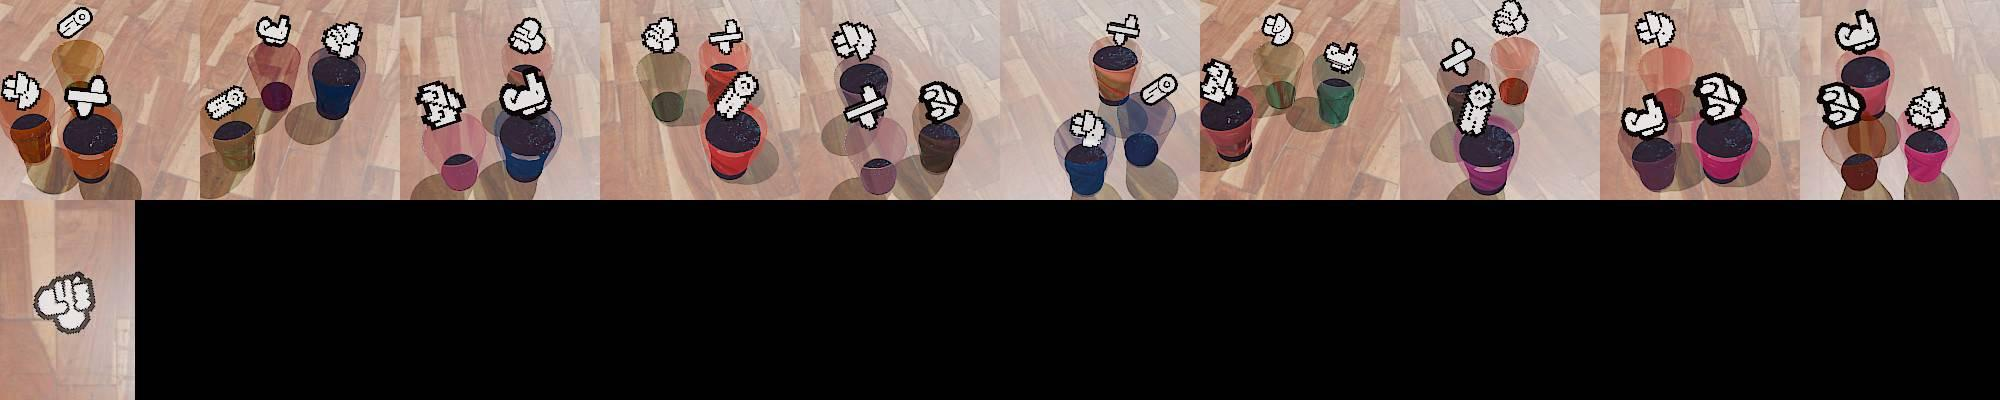icon: (31, 271, 95, 334), (499, 65, 551, 119), (1693, 72, 1747, 123), (713, 69, 760, 119), (1621, 91, 1668, 139), (1816, 83, 1865, 129), (1456, 79, 1495, 136), (1904, 85, 1952, 130), (1835, 8, 1880, 55), (64, 74, 112, 117), (843, 84, 887, 128), (831, 19, 877, 61), (418, 87, 463, 127), (1, 71, 43, 112), (1634, 10, 1677, 48), (322, 21, 364, 59), (1201, 57, 1237, 101), (205, 84, 248, 120), (1438, 37, 1476, 77), (707, 18, 745, 57), (1067, 108, 1105, 147), (641, 16, 679, 55), (508, 17, 546, 55), (1139, 70, 1179, 106), (1492, 0, 1529, 38), (921, 83, 960, 118), (1105, 14, 1141, 49), (57, 6, 94, 40), (255, 14, 293, 47), (1322, 40, 1358, 74), (1261, 11, 1293, 46)
